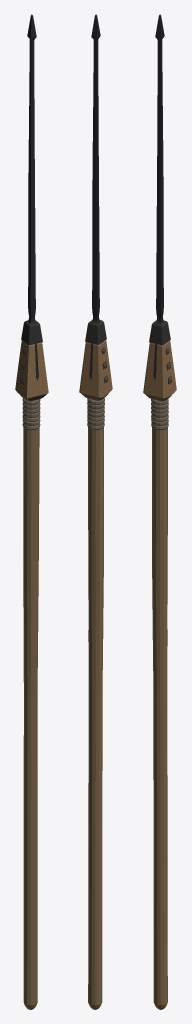
File: pokeHeavyPilum.glb
3 views of the same model, side by side, from view 1: azimuth 30°, elevation 25°; view 2: azimuth 150°, elevation 25°; view 3: azimuth 330°, elevation 25° (orthographic).
Visible parts, largest first — view 1: pokeHeavyPilum; view 2: pokeHeavyPilum; view 3: pokeHeavyPilum.
Boxes of the visible parts, box(x1,y1,x2,y2) form: pokeHeavyPilum: box(15, 14, 48, 1009); pokeHeavyPilum: box(79, 14, 112, 1009); pokeHeavyPilum: box(143, 14, 176, 1009).
Bounding box in the file's own units: 0.0556 × 2.35 × 0.0542.
